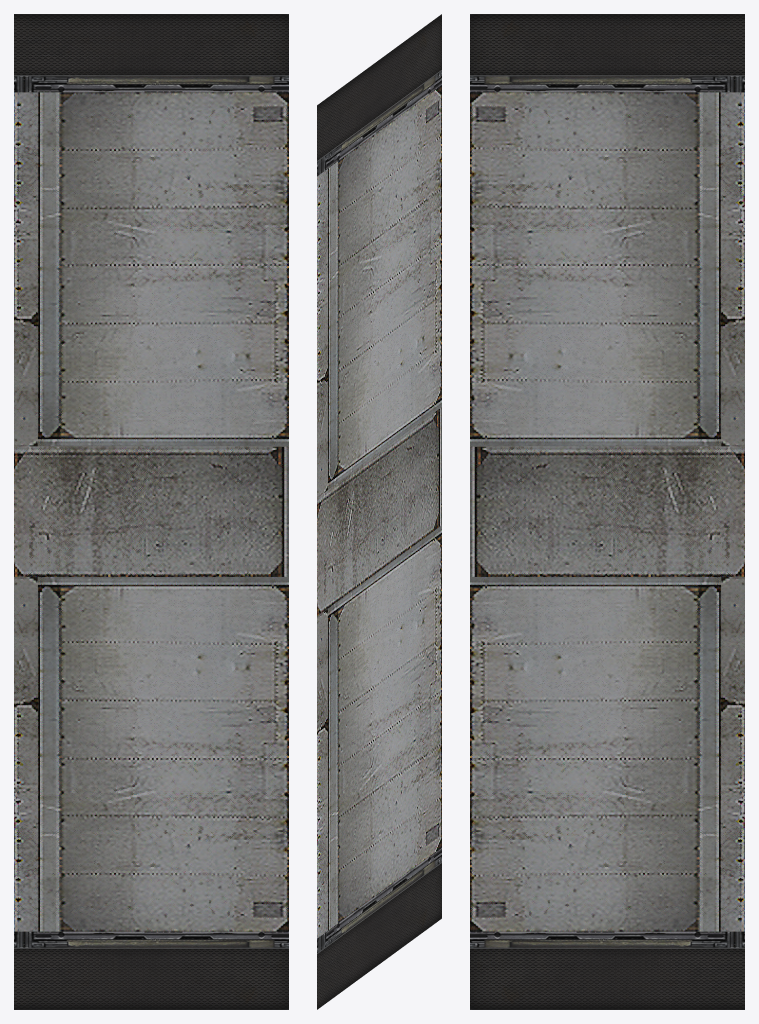
The model's file is Wall_A_Mid4mts_06.fbx.
3 views of the same model, side by side, from view 1: azimuth 90°, elevation 25°; view 2: azimuth 150°, elevation 25°; view 3: azimuth 270°, elevation 25° (orthographic). The views are drawn at different scales.
Visible parts, largest first — view 1: Wall_A_Mid4mts_06; view 2: Wall_A_Mid4mts_06; view 3: Wall_A_Mid4mts_06.
Part boxes in pixels (left/top/right/bottom): Wall_A_Mid4mts_06: left=14, top=14, right=288, bottom=1009; Wall_A_Mid4mts_06: left=317, top=14, right=441, bottom=1009; Wall_A_Mid4mts_06: left=470, top=14, right=744, bottom=1009.
Bounding box in the file's own units: 3.41e-12 × 400 × 100.
1 material, 1 textured.
